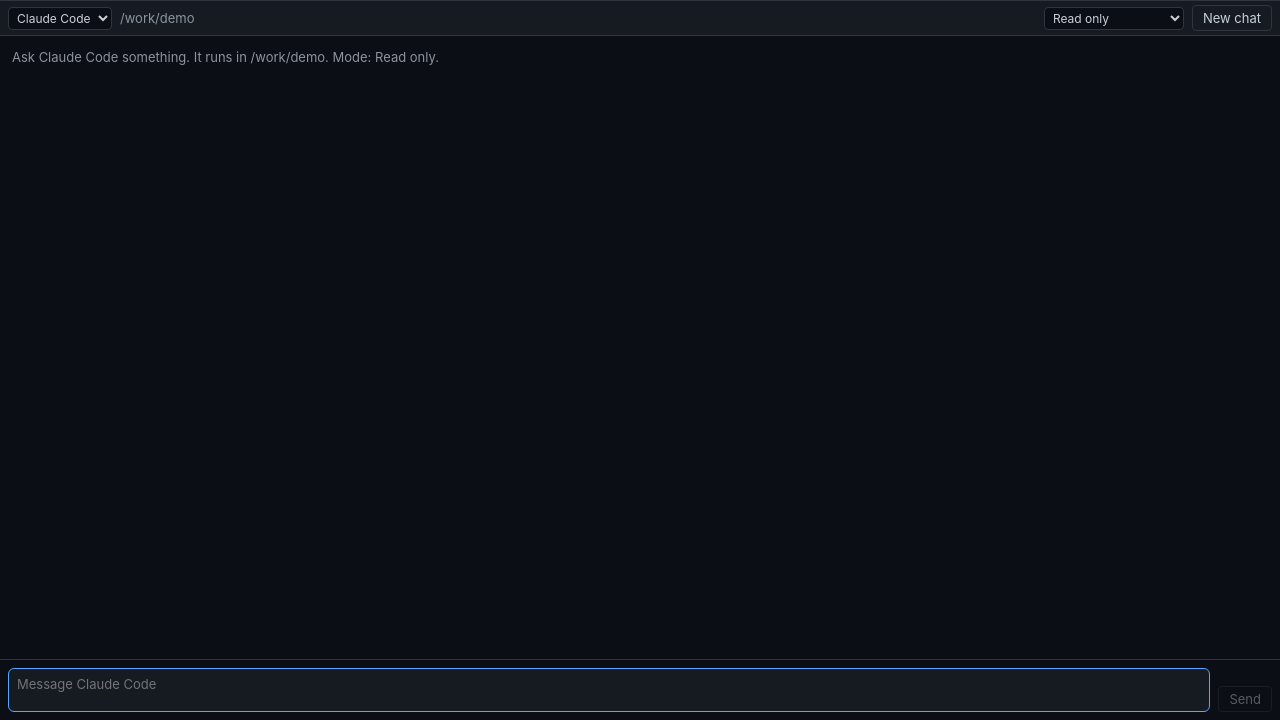
Test case: ChatPane › resumes the session on a follow-up message
Step 1. Type "first" into the text box labelled "Message" → (609, 690), box [8,668,1210,712]
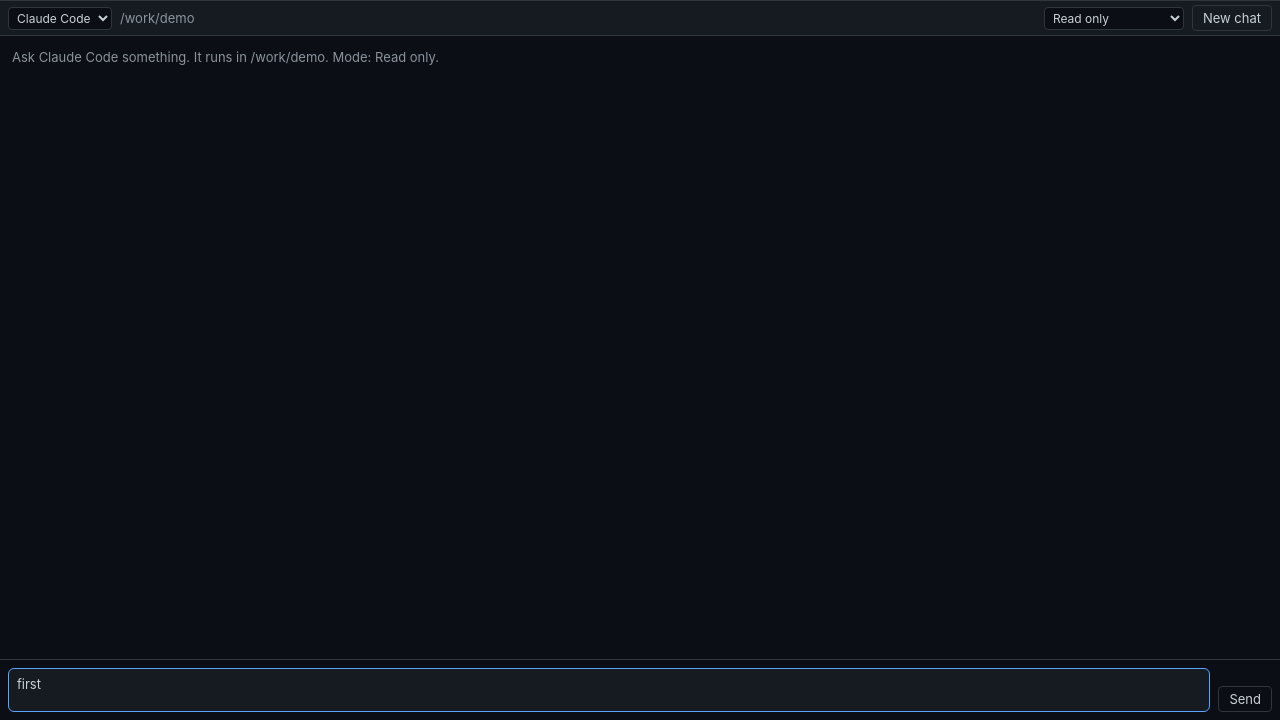
Step 2. Click the button "Send" → click(1245, 699), box [1218,686,1272,712]
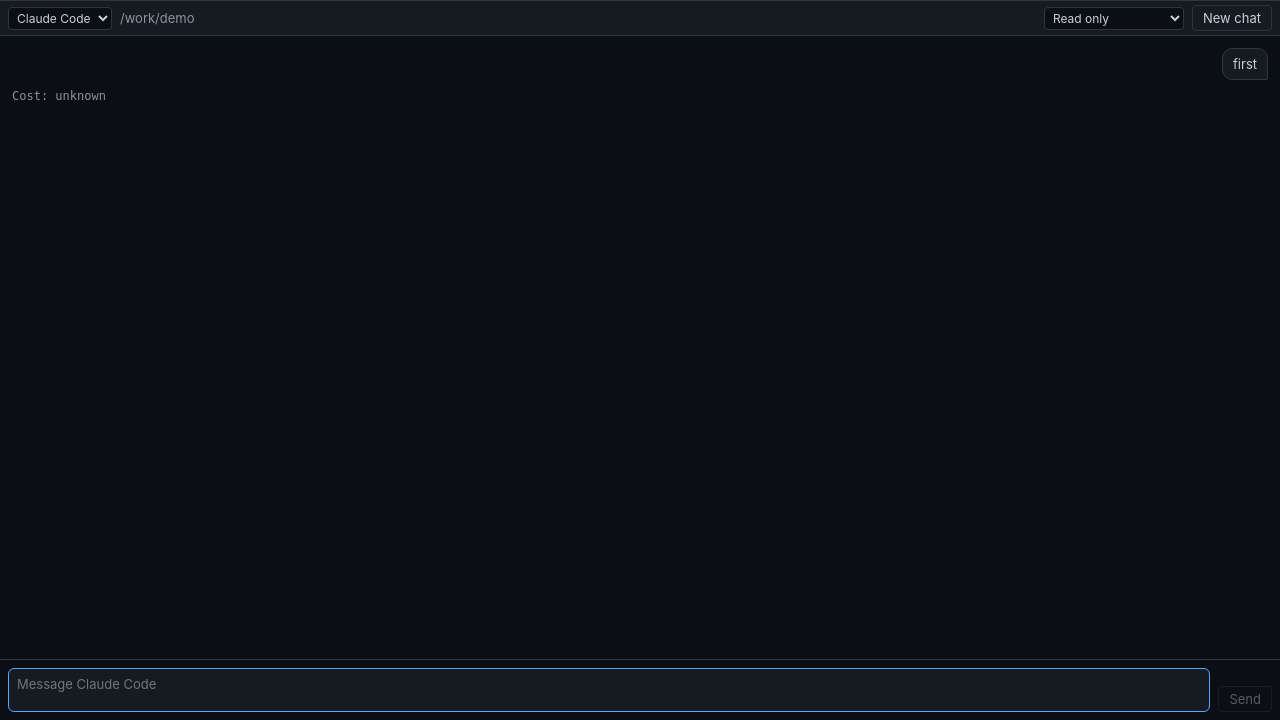
Step 3. Type "second" into the text box labelled "Message" → (609, 690), box [8,668,1210,712]
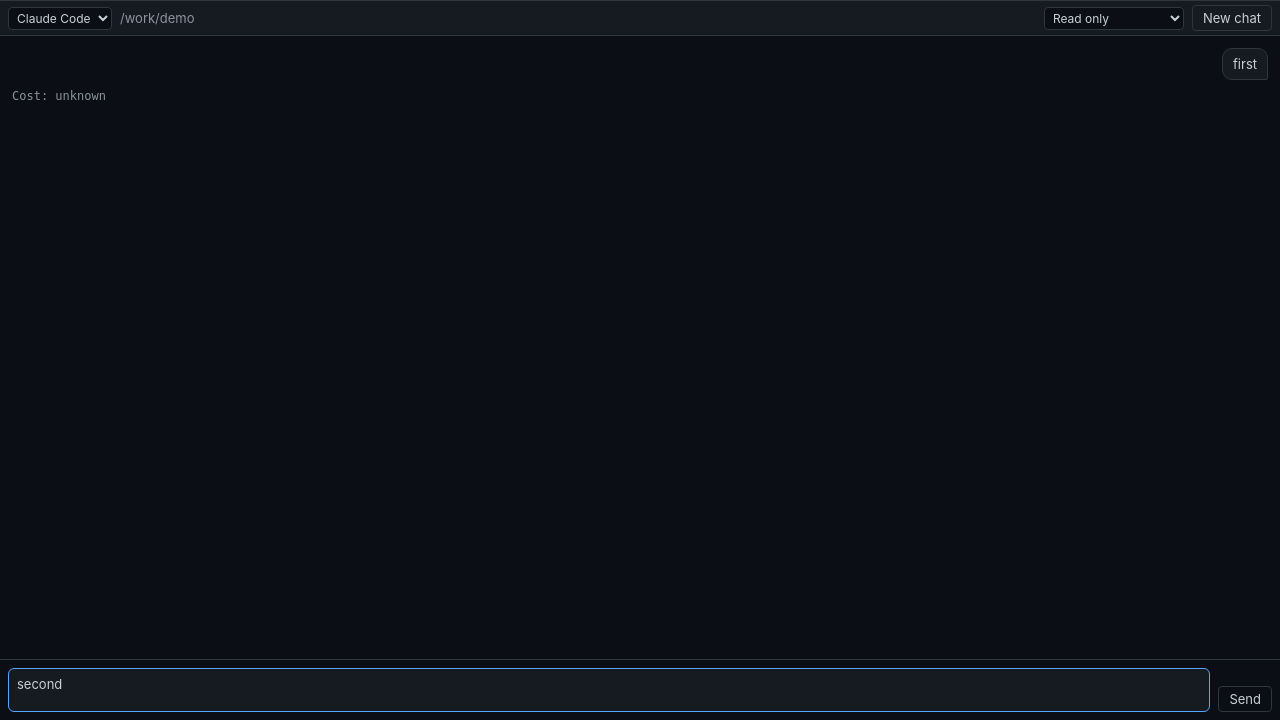
Step 4. Click the button "Send" → click(1245, 699), box [1218,686,1272,712]
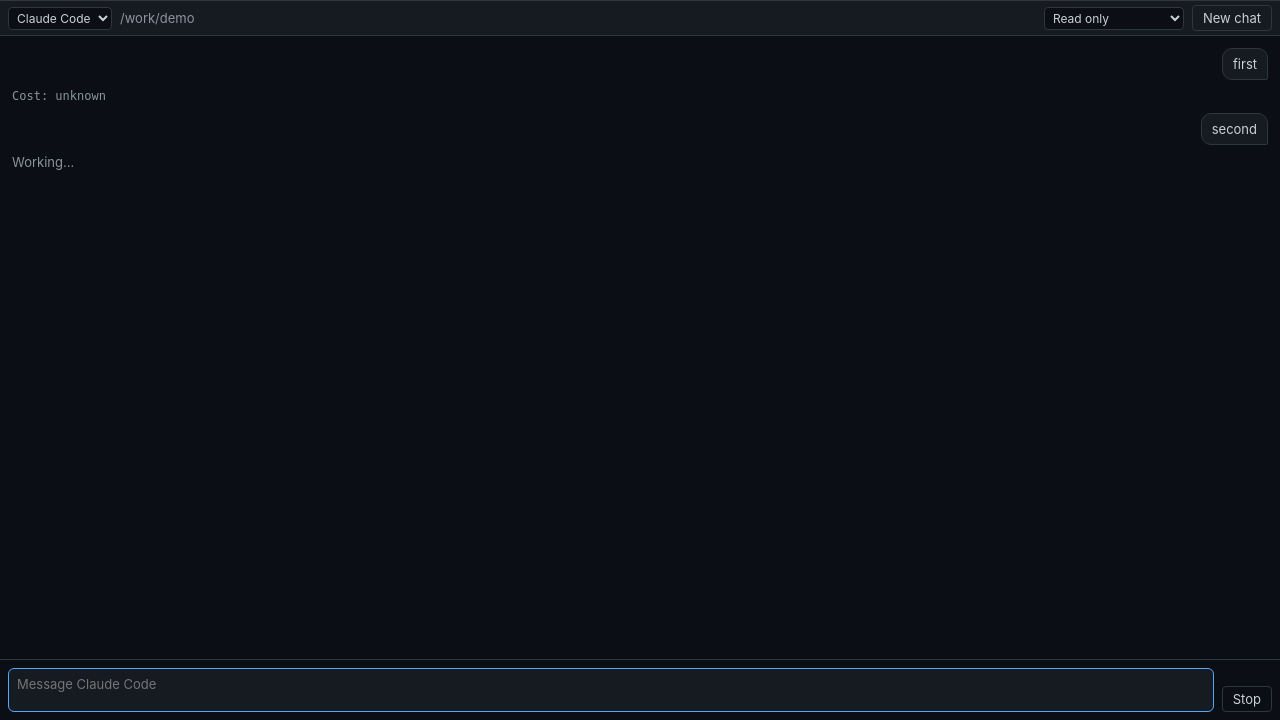
Now the text "second" is shown, box [1201,113,1268,145]
